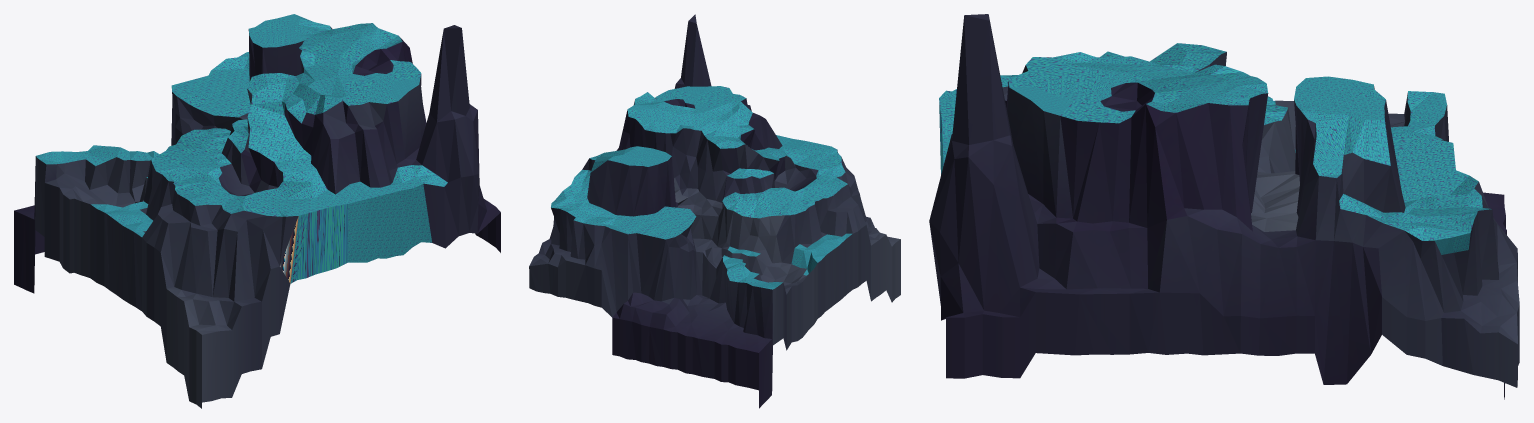
Rendered from Terrain_Mountains 2.fbx.
3 views of the same model, side by side, from view 1: azimuth 30°, elevation 25°; view 2: azimuth 150°, elevation 25°; view 3: azimuth 270°, elevation 25° (orthographic). The views are drawn at different scales.
Visible parts, largest first — view 1: Mountains; view 2: Mountains; view 3: Mountains.
Boxes of the visible parts, x1,y1,x2,y2 form: Mountains: (14,14,500,408); Mountains: (529,14,900,408); Mountains: (929,14,1519,399).
Bounding box in the file's own units: 9320 × 9467 × 10508.
